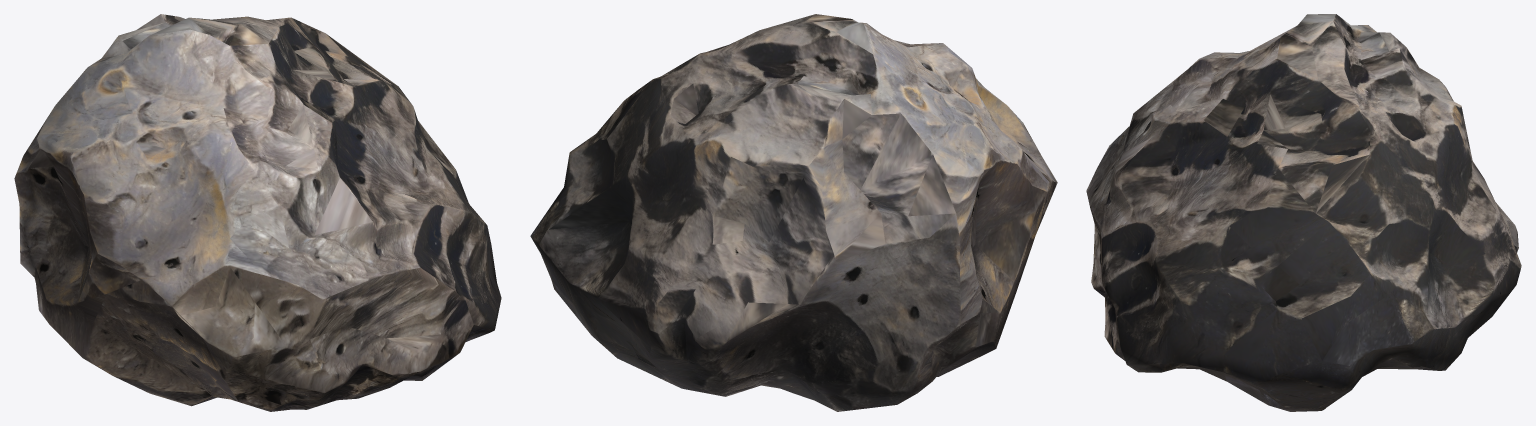
The model's file is metalOre.glb.
3 renders of one model, left to right at view 1: azimuth 30°, elevation 25°; view 2: azimuth 150°, elevation 25°; view 3: azimuth 270°, elevation 25°, orthographic. The views are drawn at different scales.
Visible parts, largest first — view 1: metalOre.001; view 2: metalOre.001; view 3: metalOre.001.
Part boxes in pixels (<box>): metalOre.001: <box>14,14,501,411</box>; metalOre.001: <box>530,14,1057,411</box>; metalOre.001: <box>1086,14,1521,411</box>.
Bounding box in the file's own units: 0.2855 × 0.2337 × 0.2801.
1 material, 1 textured.
